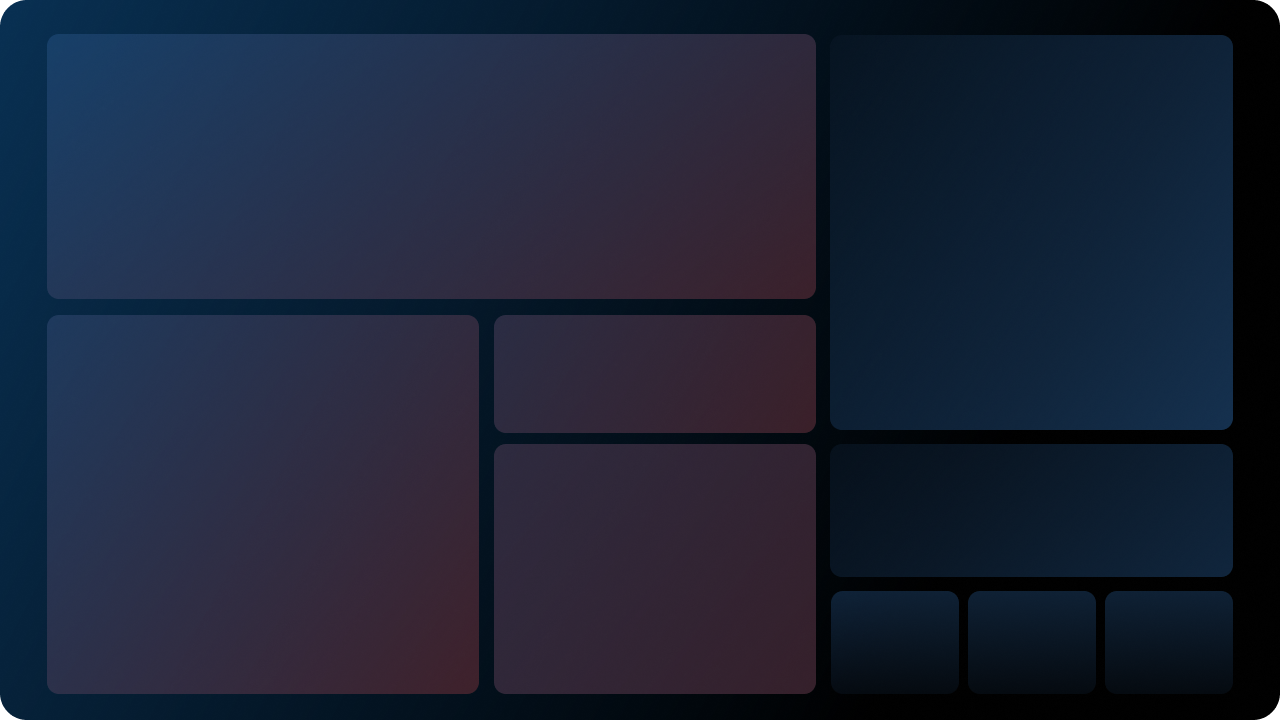

What the dashboard file says about the page in this screenshot:
{"tool":"powerbi","page":{"name":"Page 1","canvas":[1280,720],"ordinal":0},"visuals":[{"type":"clusteredBarChart","title":"Variable Chart","fields":{"Category":["Sheet1.Name"],"Y":["Sum(Sheet1.Productivity_Score)","Sheet1.Avg_Productivity_Score","Sheet1.High_Performers"]},"box":[53.3,320,425.6,374.4],"z":0},{"type":"scatterChart","title":"Work Hours vs Productivity Score","fields":{"X":["Sum(Sheet1.Work_Hours)"],"Y":["Sum(Sheet1.Productivity_Score)"]},"box":[496.7,448.9,318.9,235.6],"z":1000},{"type":"tableEx","title":"Employee Table","fields":{"Values":["Sheet1.Name","Sum(Sheet1.Work_Hours)","Sum(Sheet1.Tasks_Completed)","Sheet1.Performance_Category","Sheet1.Total_Work_Hours","Sheet1.Avg_Department_Productivity"]},"box":[53.3,37.8,761.1,261.1],"z":2000},{"type":"card","fields":{"Values":["Sheet1.Avg_Productivity_Score"]},"box":[1108.9,585.4,118.9,102.2],"z":3000},{"type":"card","fields":{"Values":["Sheet1.High_Performers"]},"box":[972.2,585.4,122.2,102.2],"z":4000},{"type":"card","fields":{"Values":["Sheet1.Total_Work_Hours"]},"box":[831.1,585.4,125.6,102.2],"z":5000},{"type":"pieChart","title":"Sum (Work Hours & Productivity Score)","fields":{"Y":["Sum(Sheet1.Work_Hours)","Sum(Sheet1.Productivity_Score)"]},"box":[834.4,44.4,397.8,381.1],"z":6000},{"type":"slicer","title":"Date","fields":{"Values":["Sheet1.Date"]},"box":[830,448.9,397.8,112.2],"z":7000},{"type":"advancedSlicerVisual","title":"Performance Category","fields":{"Values":["Sheet1.Performance_Category"]},"box":[496.7,320,317.8,105.6],"z":8001}]}

Visuals, with their boxes in screenshot pixels (x1, y1, x2, y2), scaled from the page's 1280x720 canvas onto the 1280x720 screenshot:
"Variable Chart" clusteredBarChart: crop(53, 320, 479, 694)
"Work Hours vs Productivity Score" scatterChart: crop(497, 449, 816, 684)
"Employee Table" tableEx: crop(53, 38, 814, 299)
card - Sheet1.Avg_Productivity_Score: crop(1109, 585, 1228, 688)
card - Sheet1.High_Performers: crop(972, 585, 1094, 688)
card - Sheet1.Total_Work_Hours: crop(831, 585, 957, 688)
"Sum (Work Hours & Productivity Score)" pieChart: crop(834, 44, 1232, 426)
"Date" slicer: crop(830, 449, 1228, 561)
"Performance Category" advancedSlicerVisual: crop(497, 320, 814, 426)
